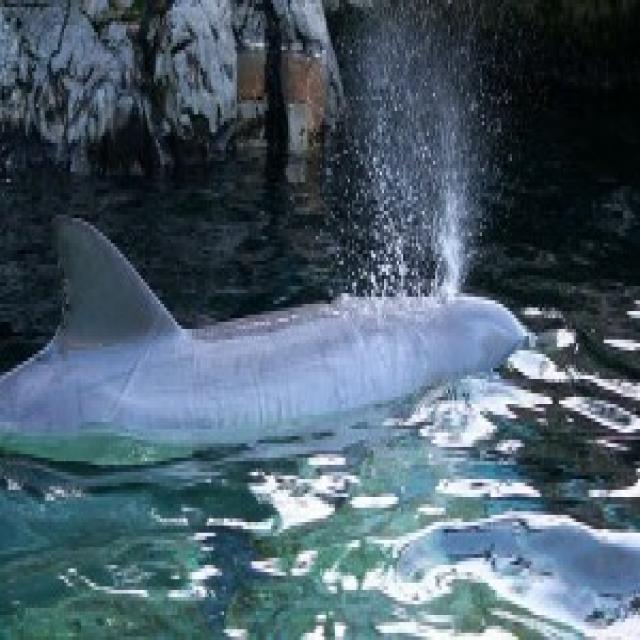Dolphin: (0, 220, 535, 506)
